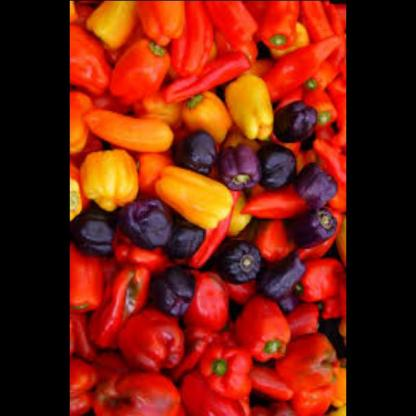bell pepper: (70, 0, 347, 416)
